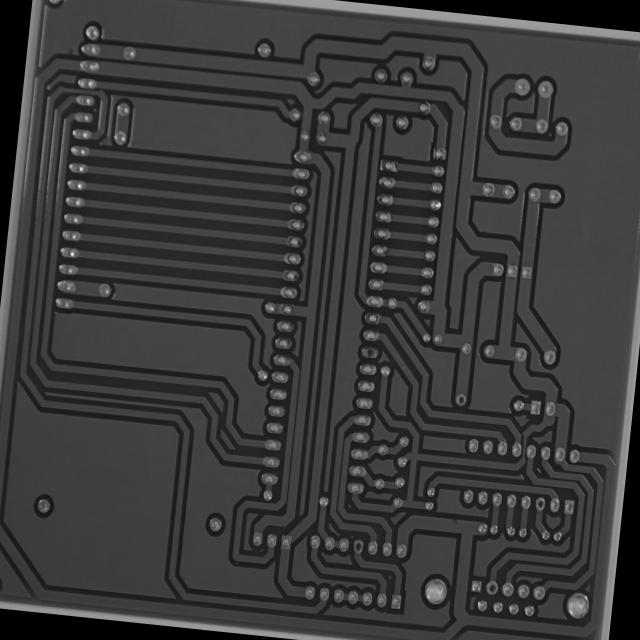missing_hole: (482, 576, 500, 598), (350, 534, 365, 556), (360, 342, 378, 360), (452, 391, 470, 408), (532, 493, 548, 512)
